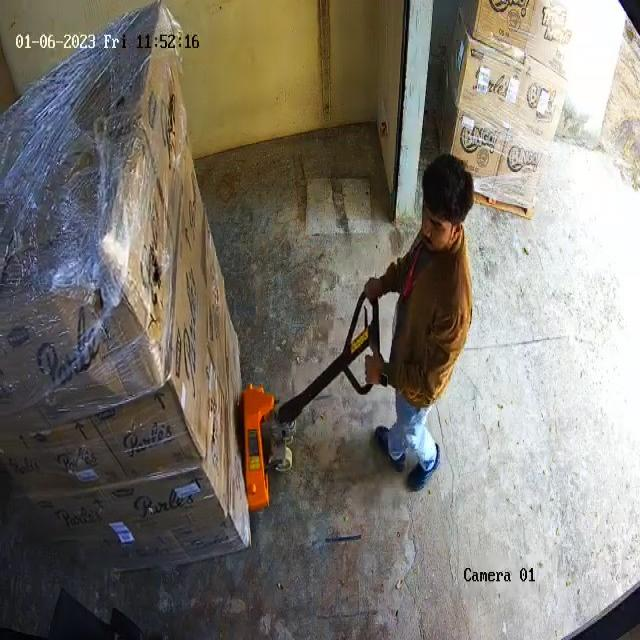leakage: (133, 229, 172, 318)
tear: (161, 77, 176, 161)
